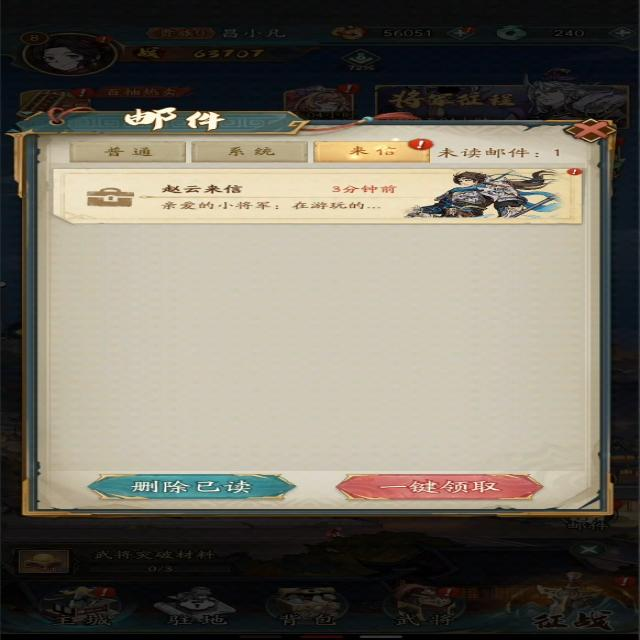hint-reddot: (401, 135, 439, 152), (561, 167, 593, 179)
operation-close: (558, 115, 621, 146)
operation-confirm: (330, 471, 546, 503)
